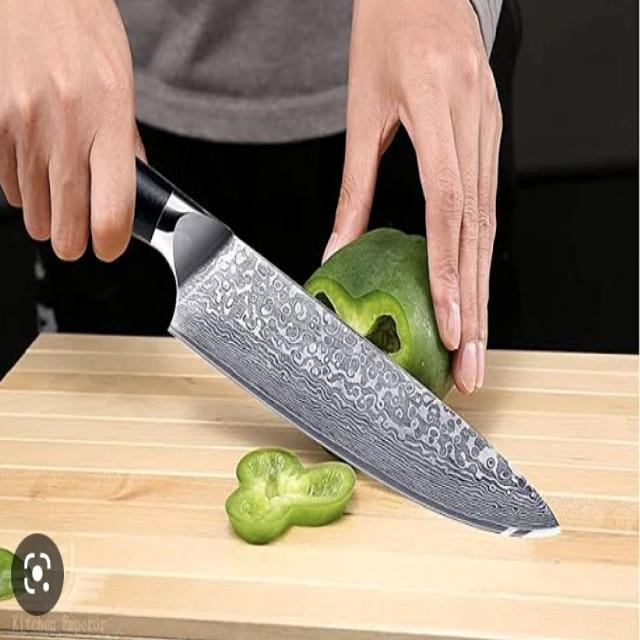knife: (66, 148, 566, 542)
